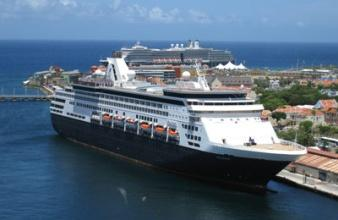youlun: (48, 57, 299, 189), (109, 41, 242, 66)
